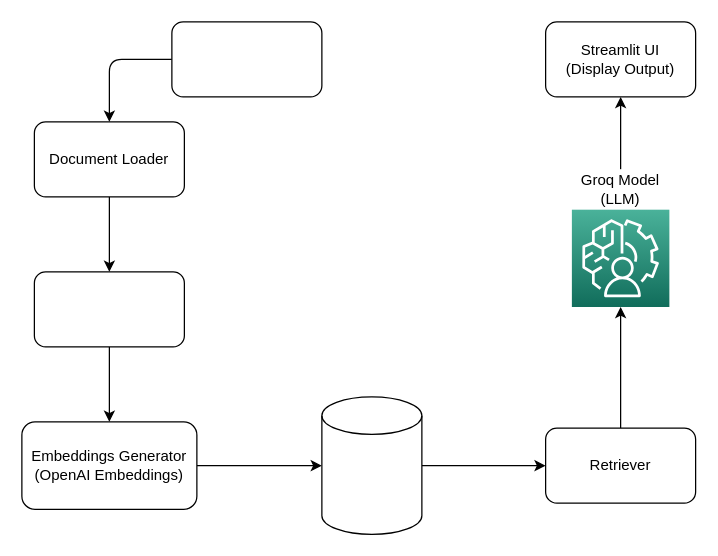
Some shapes in this 718 by 556 pixel diagram are drawn without their labels. Here are the shapes that lost their labels. From the top down, the box of each, then its label:
(171, 21, 322, 97): Streamlit UI (user Input)
(33, 271, 184, 347): Text splitter
(321, 396, 422, 534): ObjectBox (Vector Storage)
